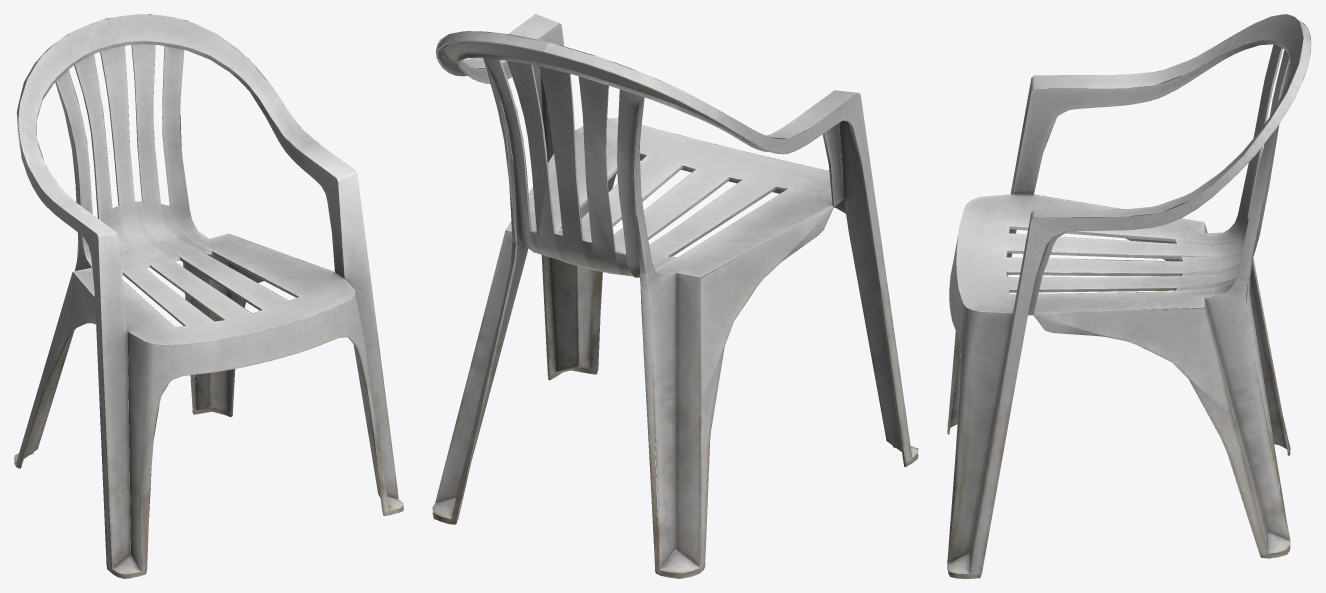
File: chair-22.glb
3 views of the same model, side by side, from view 1: azimuth 30°, elevation 25°; view 2: azimuth 150°, elevation 25°; view 3: azimuth 270°, elevation 25° (orthographic). The views are drawn at different scales.
Visible parts, largest first — view 1: Monobloc; view 2: Monobloc; view 3: Monobloc.
Boxes of the visible parts, x1,y1,x2,y2 form: Monobloc: [14, 14, 403, 578]; Monobloc: [432, 14, 918, 578]; Monobloc: [947, 14, 1311, 578].
Bounding box in the file's own units: 6.39 × 8.77 × 6.25.
Materials: 1 (1 with a texture image).
